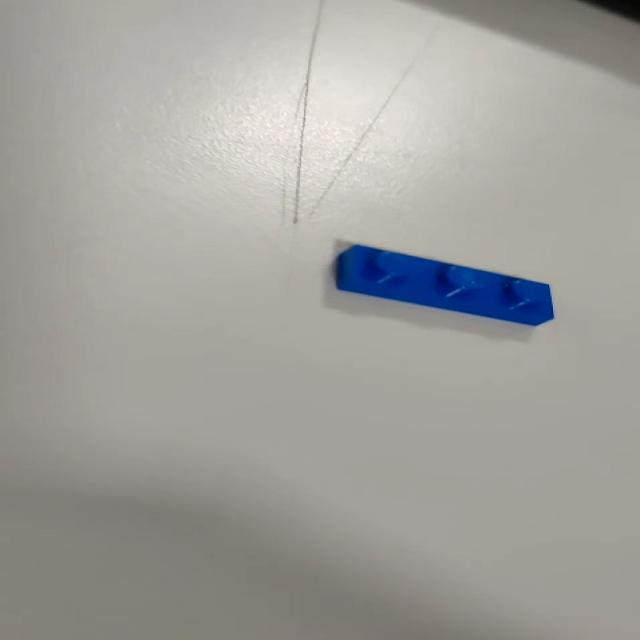C3x1x0: (328, 241, 563, 333)
